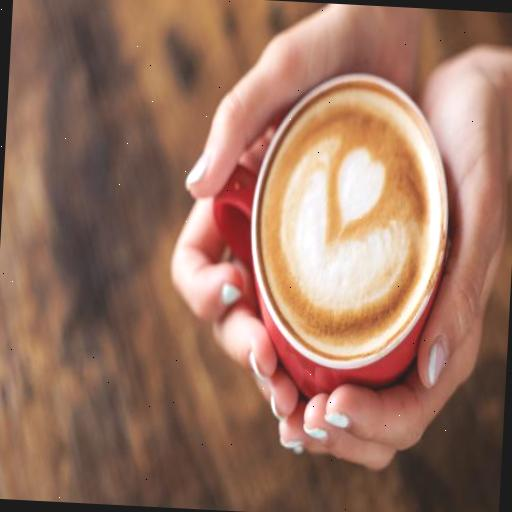cup: (202, 64, 458, 413)
